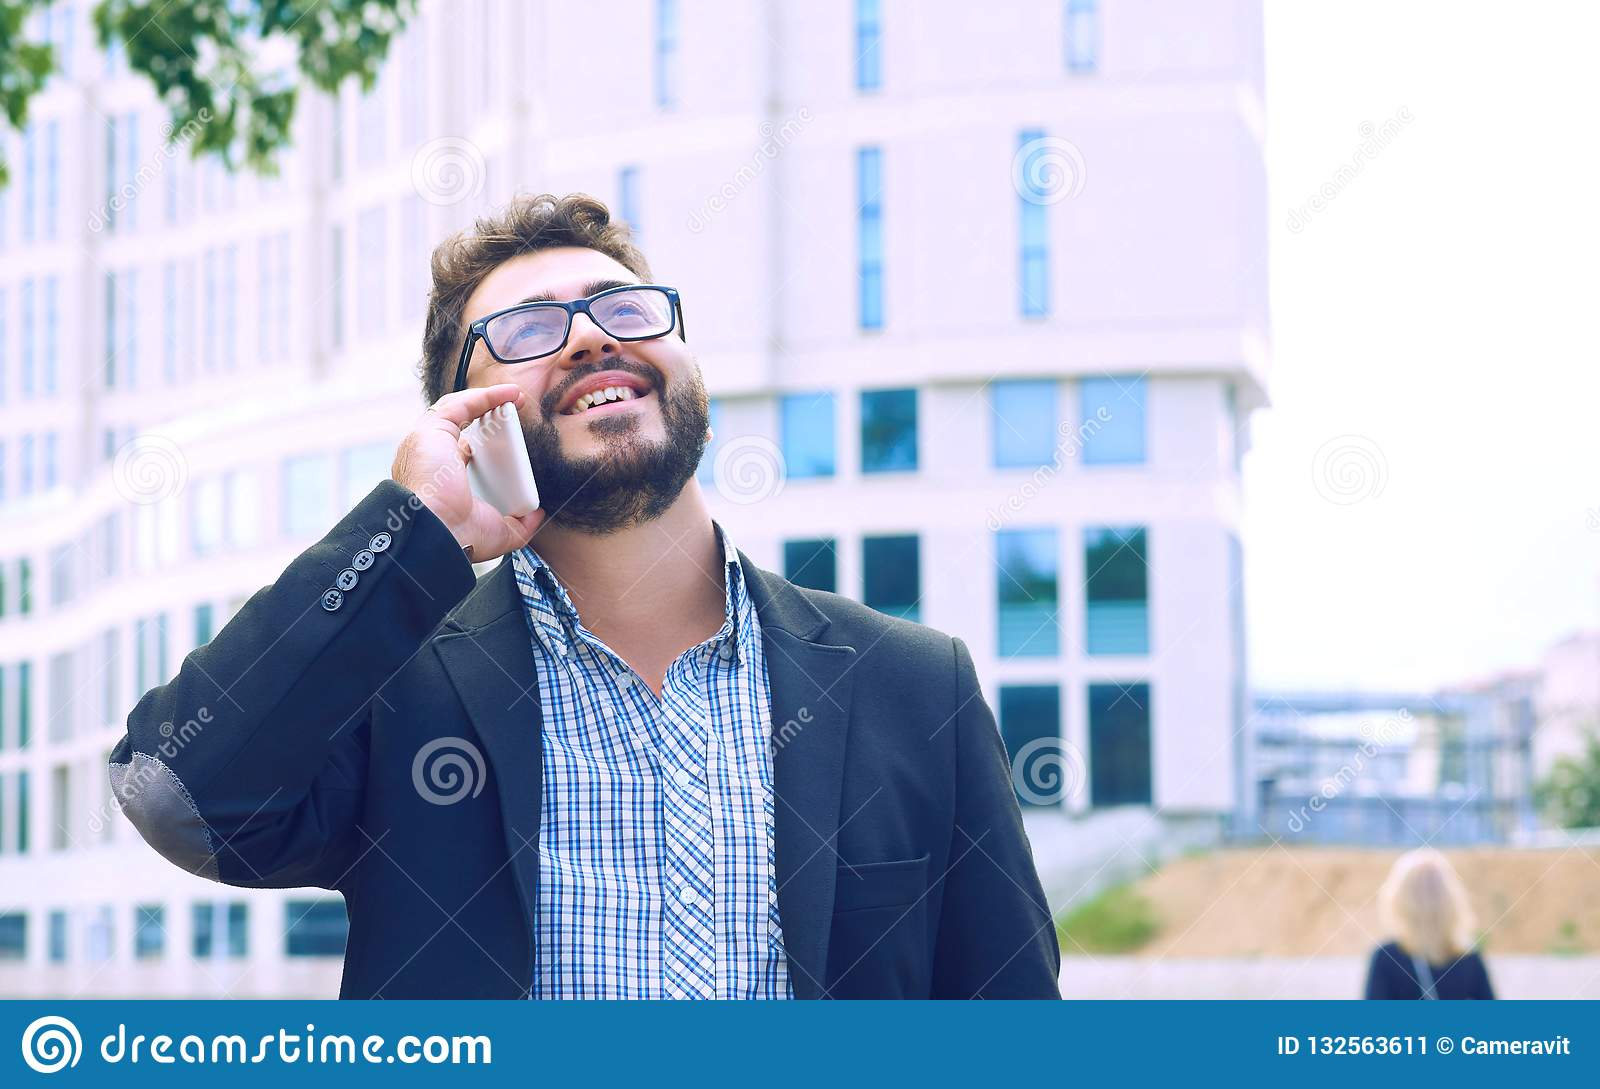phone: (459, 397, 549, 524)
talk: (391, 266, 688, 562)
